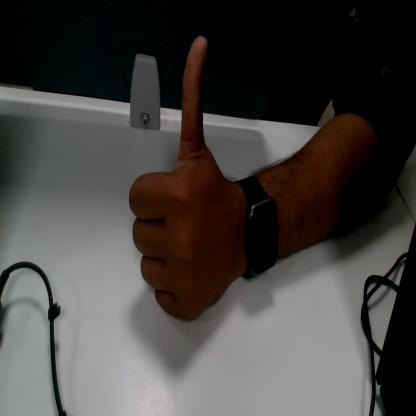Thumbs up: (125, 34, 248, 332)
